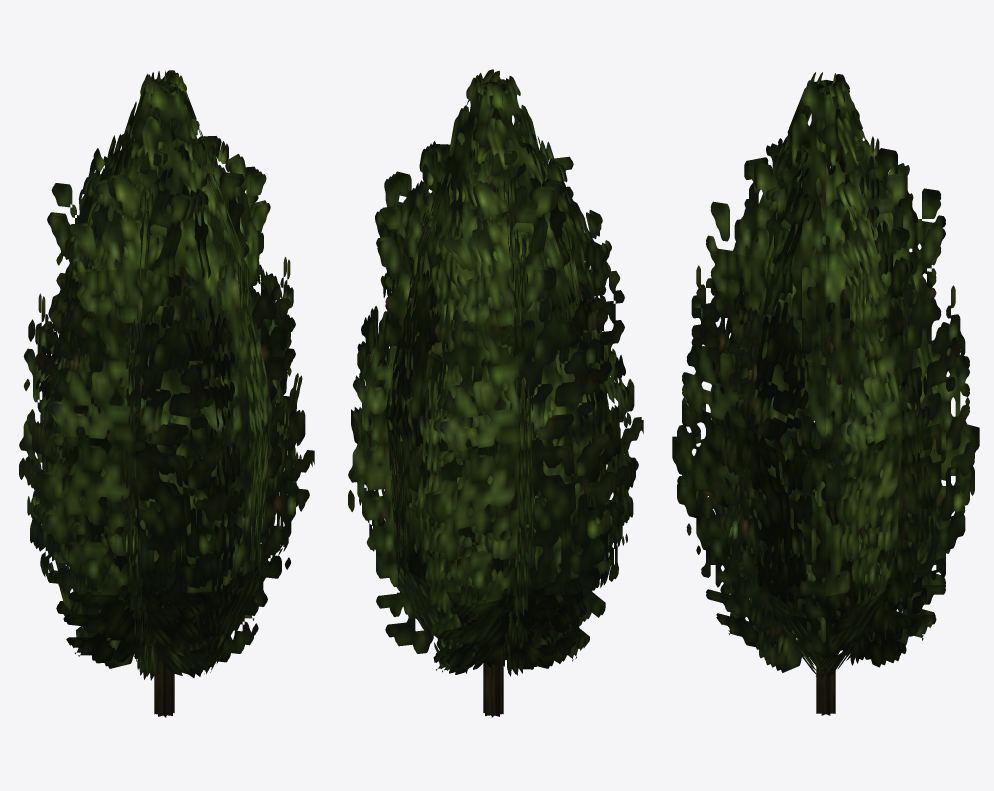
File: wild_hillside_shrub.glb
3 renders of one model, left to right at view 1: azimuth 30°, elevation 25°; view 2: azimuth 150°, elevation 25°; view 3: azimuth 270°, elevation 25°, orthographic.
Parts seen in each view (by area): view 1: bush5; view 2: bush5; view 3: bush5.
Boxes of the visible parts, x1,y1,x2,y2 form: bush5: [19, 70, 314, 717]; bush5: [348, 69, 643, 717]; bush5: [672, 72, 979, 715].
Bounding box in the file's own units: 0.44 × 1 × 0.44.
Materials: 1 (1 with a texture image).
